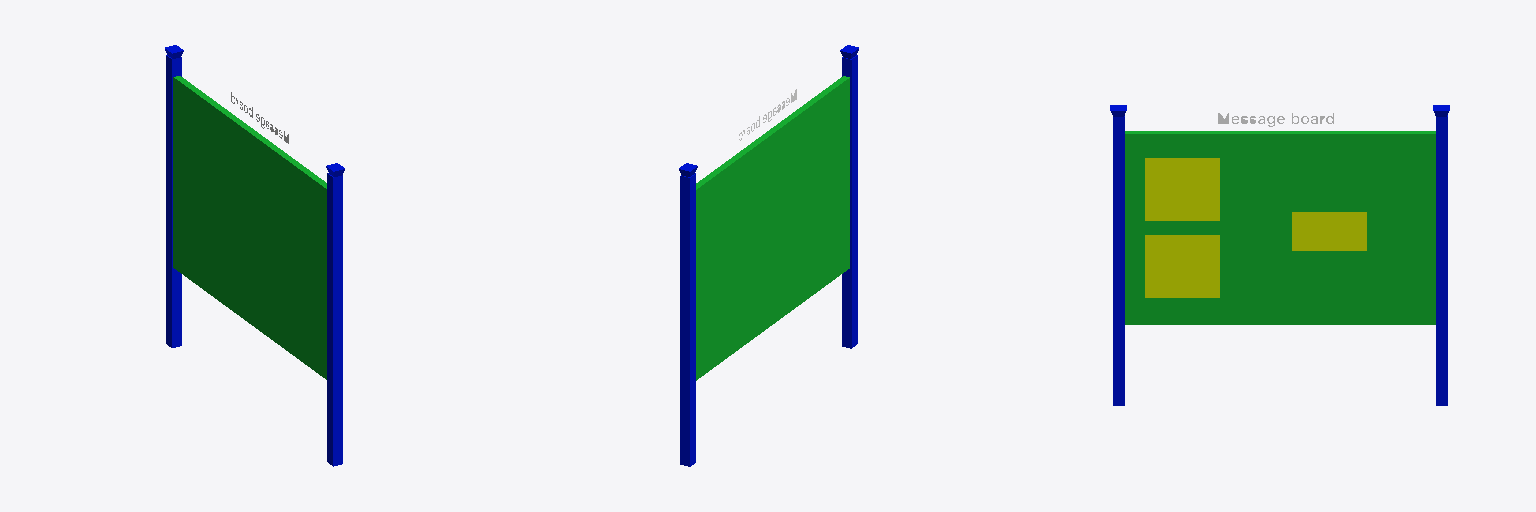
Rendered from messageboard.obj.
3 views of the same model, side by side, from view 1: azimuth 30°, elevation 25°; view 2: azimuth 150°, elevation 25°; view 3: azimuth 270°, elevation 25° (orthographic).
Parts seen in each view (by area): view 1: Cube, Cube.1, Cube.2; view 2: Cube, Cube.2, Cube.1; view 3: Cube, Note_2, Note_1, Cube.2, Cube.1, Note_3.
Part boxes in pixels (bbox=[...]): Cube: bbox=[173, 76, 326, 379]; Cube.1: bbox=[327, 173, 342, 466]; Cube.2: bbox=[166, 55, 181, 347]; Cube: bbox=[696, 76, 849, 380]; Cube.2: bbox=[680, 173, 695, 466]; Cube.1: bbox=[842, 55, 857, 348]; Cube: bbox=[1125, 131, 1435, 324]; Note_2: bbox=[1145, 235, 1219, 297]; Note_1: bbox=[1145, 158, 1219, 220]; Cube.2: bbox=[1436, 115, 1447, 405]; Cube.1: bbox=[1113, 116, 1124, 405]; Note_3: bbox=[1292, 212, 1366, 250].
Size of the model in its own units: 4.95 by 99.88 by 104.